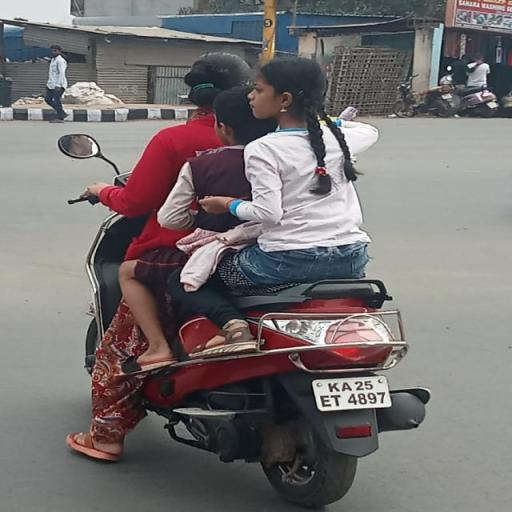bike: (46, 44, 434, 506)
numberplate: (314, 374, 396, 414)
withouthelmet: (253, 57, 327, 119), (184, 53, 248, 105)
